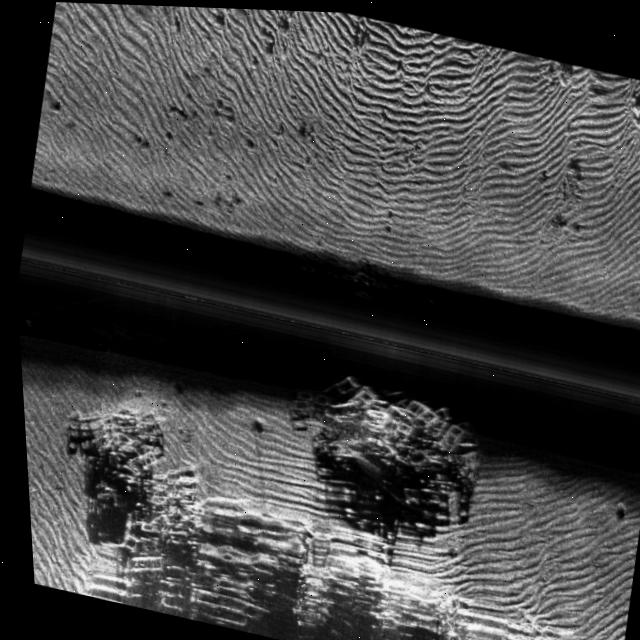artificial reef: (252, 357, 488, 520), (60, 390, 216, 548), (295, 255, 399, 314)
